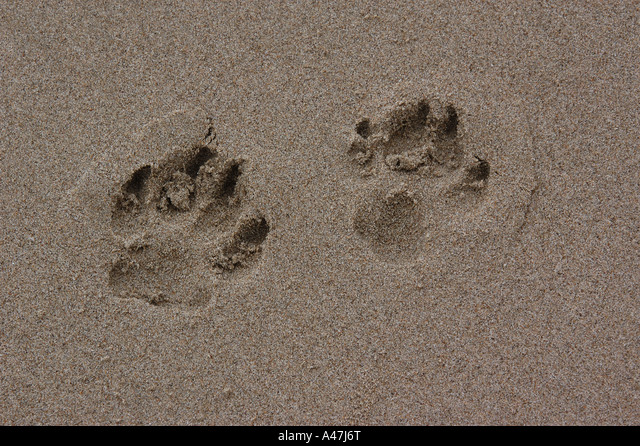chien: (104, 141, 272, 311), (349, 100, 492, 259)
